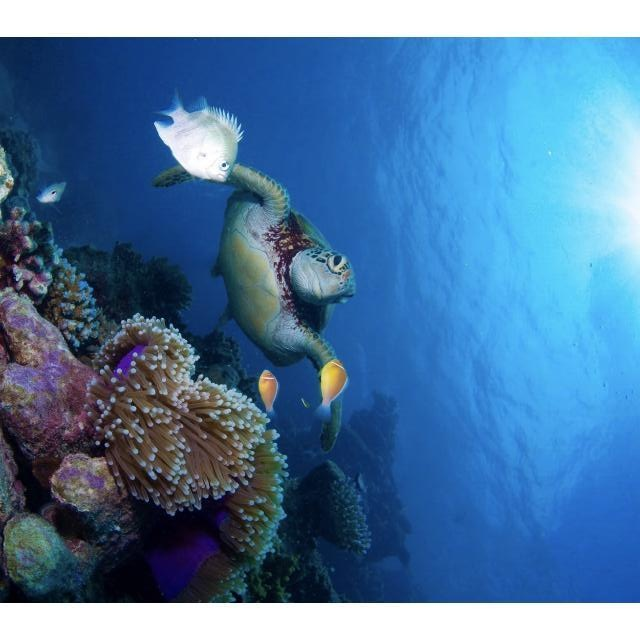turtle: (151, 161, 356, 446)
